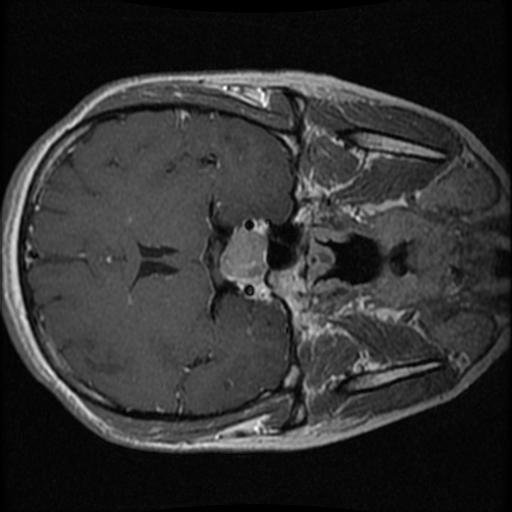pituitary tumour: (219, 230, 268, 283)
